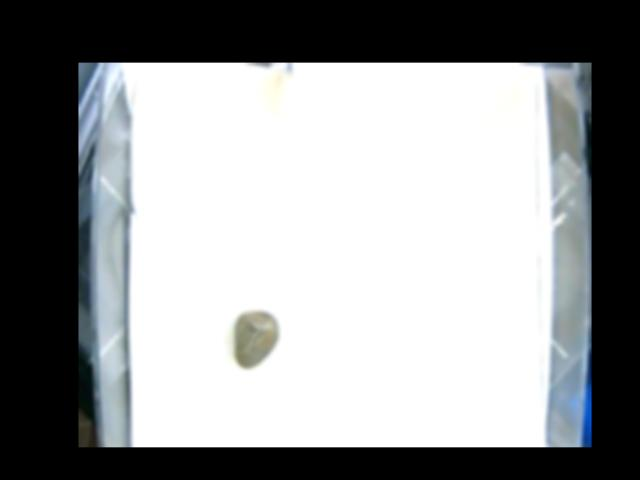Pebble: (233, 309, 278, 370)
